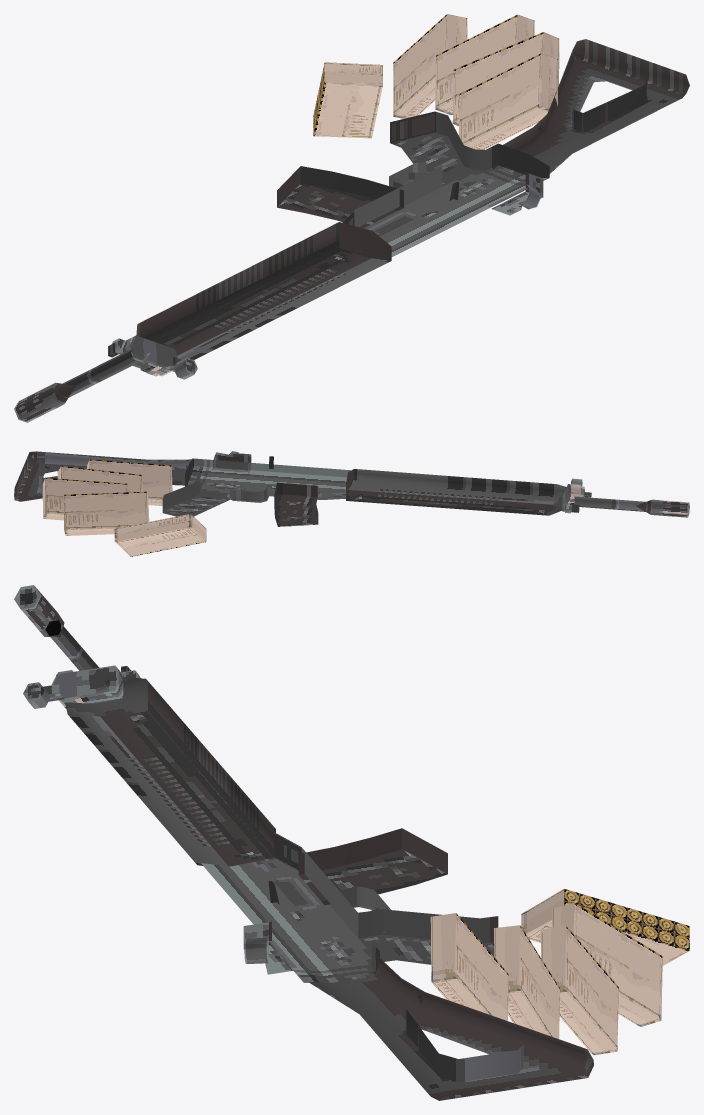
The model's file is ps2_save-icons_gunslingergirlvol3.glb.
The picture shows the model from 3 angles, top to bottom: view 1: azimuth 30°, elevation 25°; view 2: azimuth 150°, elevation 25°; view 3: azimuth 270°, elevation 25°; orthographic projection. The views are drawn at different scales.
Visible parts, largest first — view 1: icon0.ico; view 2: icon0.ico; view 3: icon0.ico.
Boxes of the visible parts, left/top/right/bottom form: icon0.ico: left=14, top=14, right=689, bottom=422; icon0.ico: left=14, top=451, right=689, bottom=556; icon0.ico: left=14, top=585, right=689, bottom=1100.
Size of the model in its own units: 4.64 by 0.2827 by 2.68.
1 material, 1 textured.
